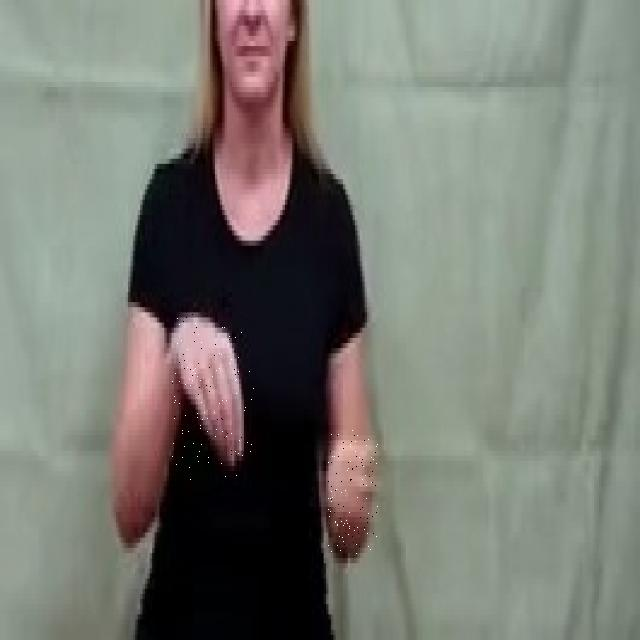ingredients: (172, 313, 254, 482), (328, 430, 378, 554)
